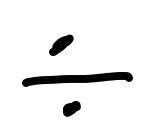div: (22, 33, 133, 117)
